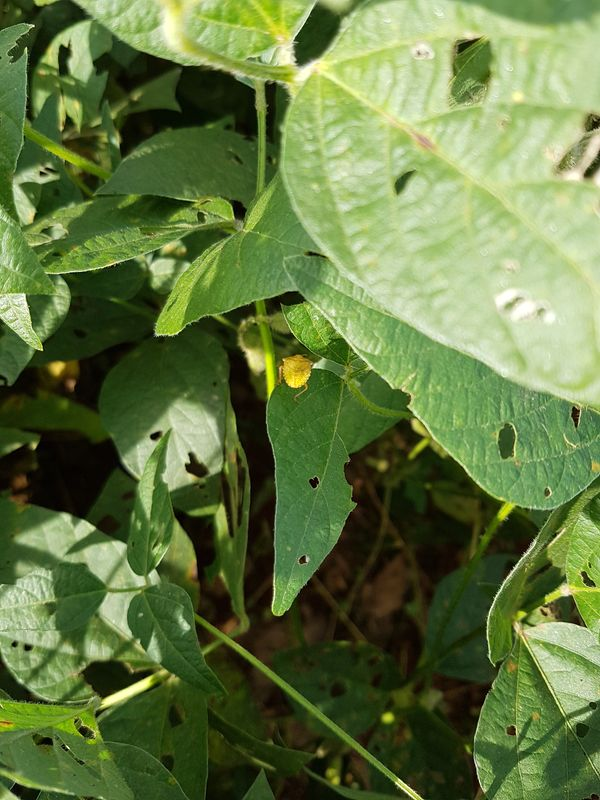Euschistus_heros_ninfa: (269, 347, 322, 400)
